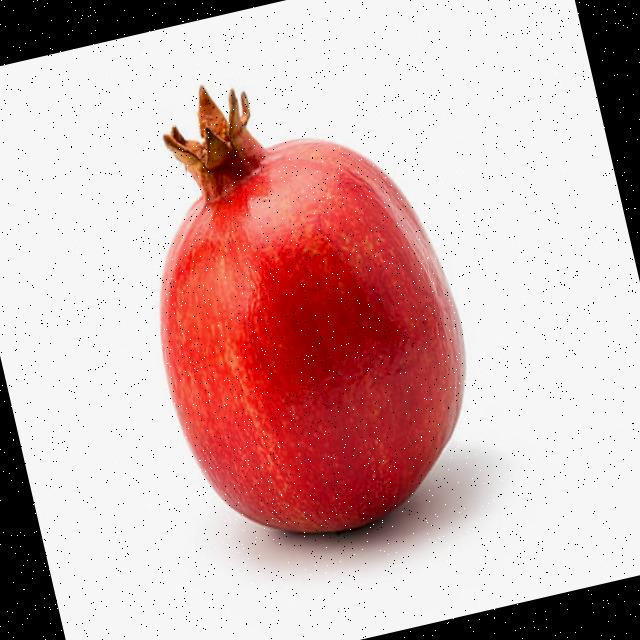Ripe: (98, 21, 506, 570)
